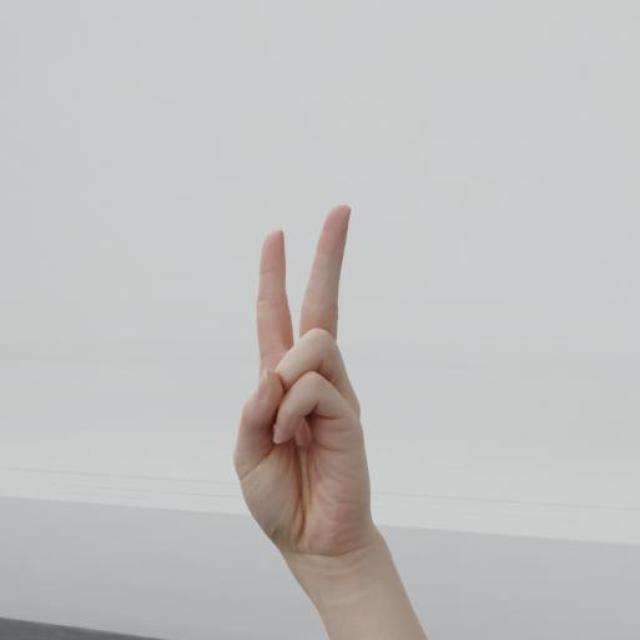V: (230, 190, 394, 566)
